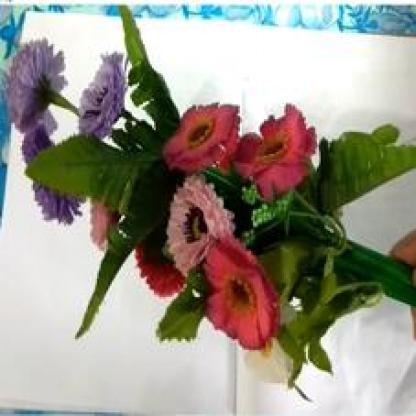flower: (22, 23, 414, 386)
